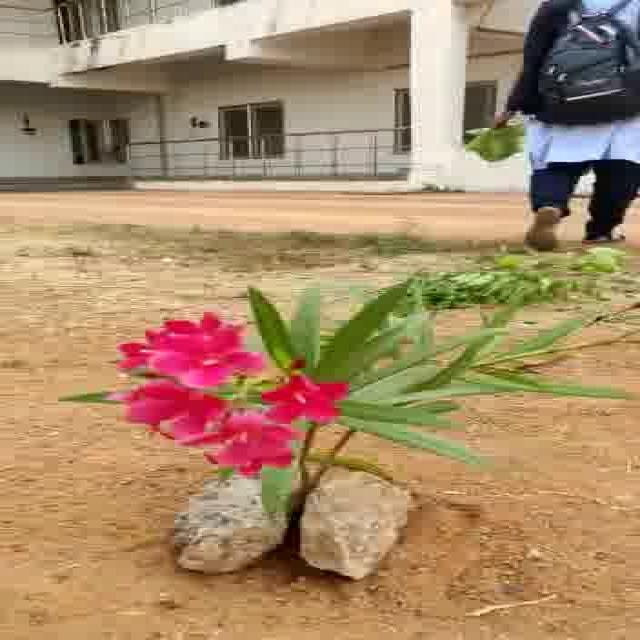Oleander: (144, 239, 554, 456)
